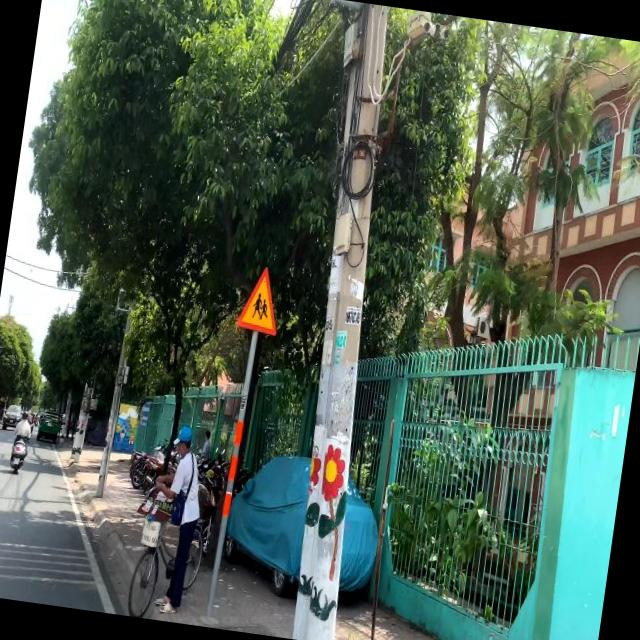W-225: (235, 264, 286, 336)
